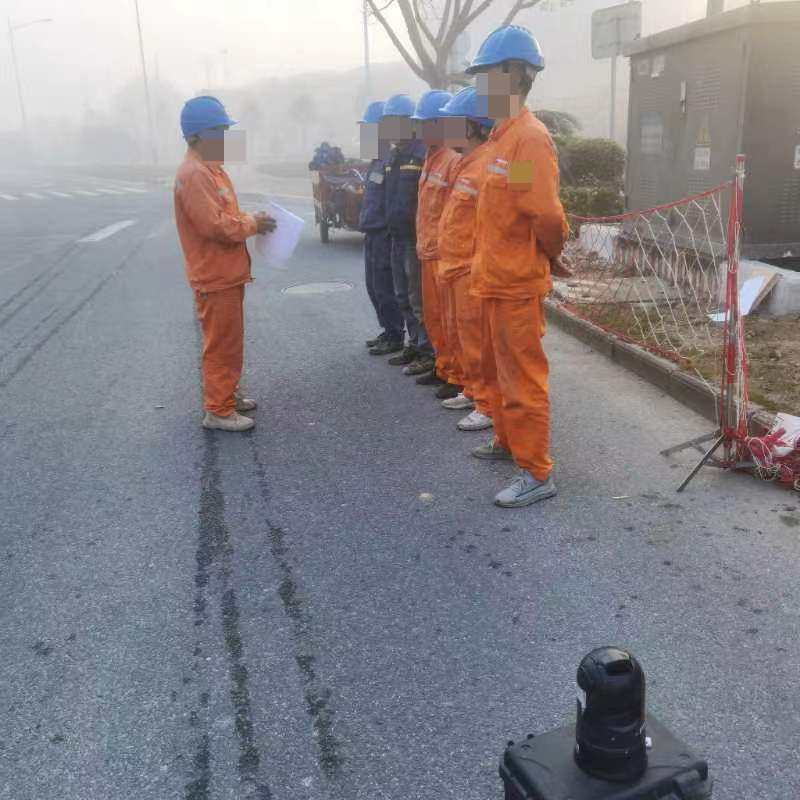downsuit: (389, 240, 421, 334), (361, 232, 387, 324)
halt: (466, 25, 545, 114), (179, 95, 238, 157), (447, 93, 488, 148), (414, 87, 449, 144), (359, 101, 382, 145), (385, 93, 407, 138)
hand: (254, 206, 278, 235), (554, 253, 579, 277)
inear: (492, 65, 527, 104), (455, 118, 478, 147), (196, 131, 222, 154)
person: (477, 22, 569, 520), (168, 89, 287, 434), (444, 84, 497, 432), (381, 91, 427, 372), (411, 85, 450, 389), (350, 98, 393, 335)
sleeve: (508, 161, 536, 192)
upsuit: (387, 143, 421, 228), (357, 145, 390, 229)
ydownsuit: (490, 295, 555, 473), (194, 285, 250, 422), (446, 279, 485, 401), (421, 260, 446, 372)
yupsuit: (486, 110, 564, 289), (175, 158, 258, 284), (445, 145, 484, 277), (416, 152, 443, 253)
